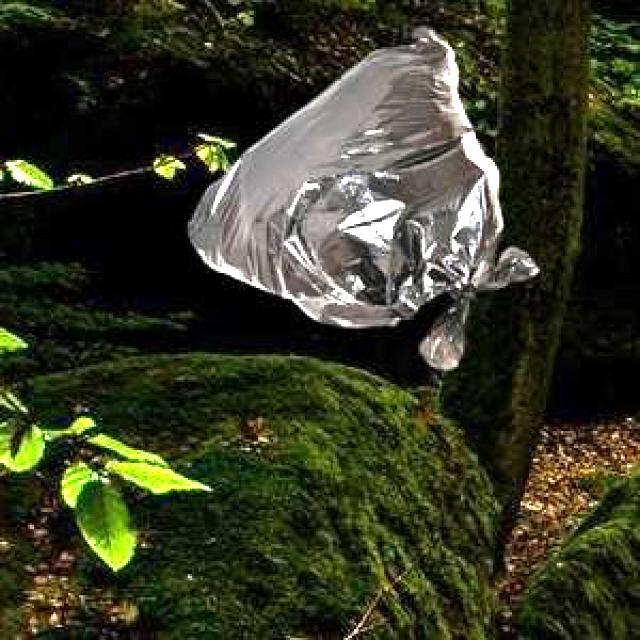Garbage_Bag: (185, 24, 534, 366)
